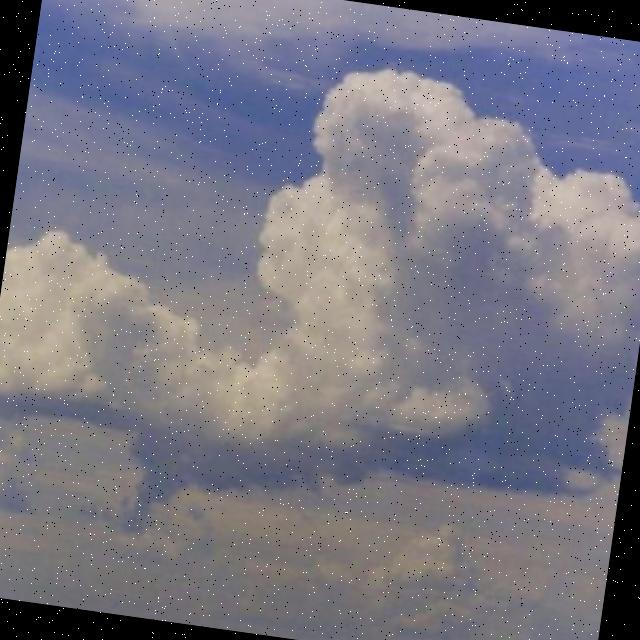Cs: (1, 20, 640, 539)
